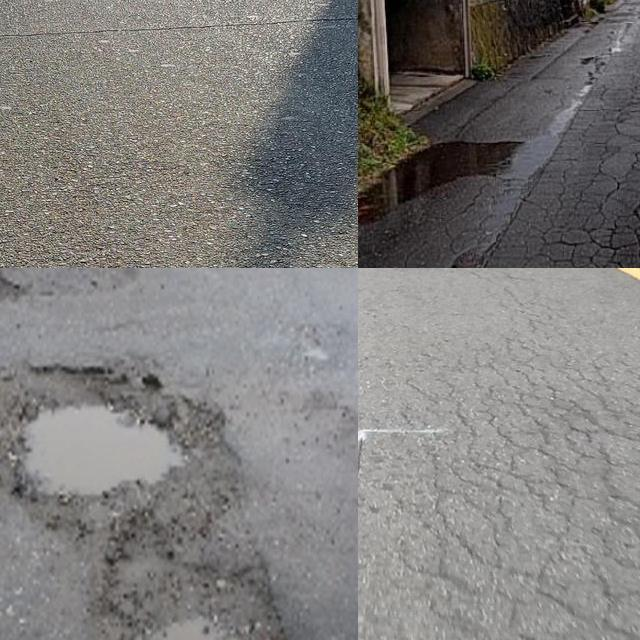Lubang: (0, 366, 236, 518), (85, 570, 283, 640)
Melintang: (0, 6, 358, 48)
Retak Buaya: (380, 341, 640, 640), (492, 56, 640, 268)
